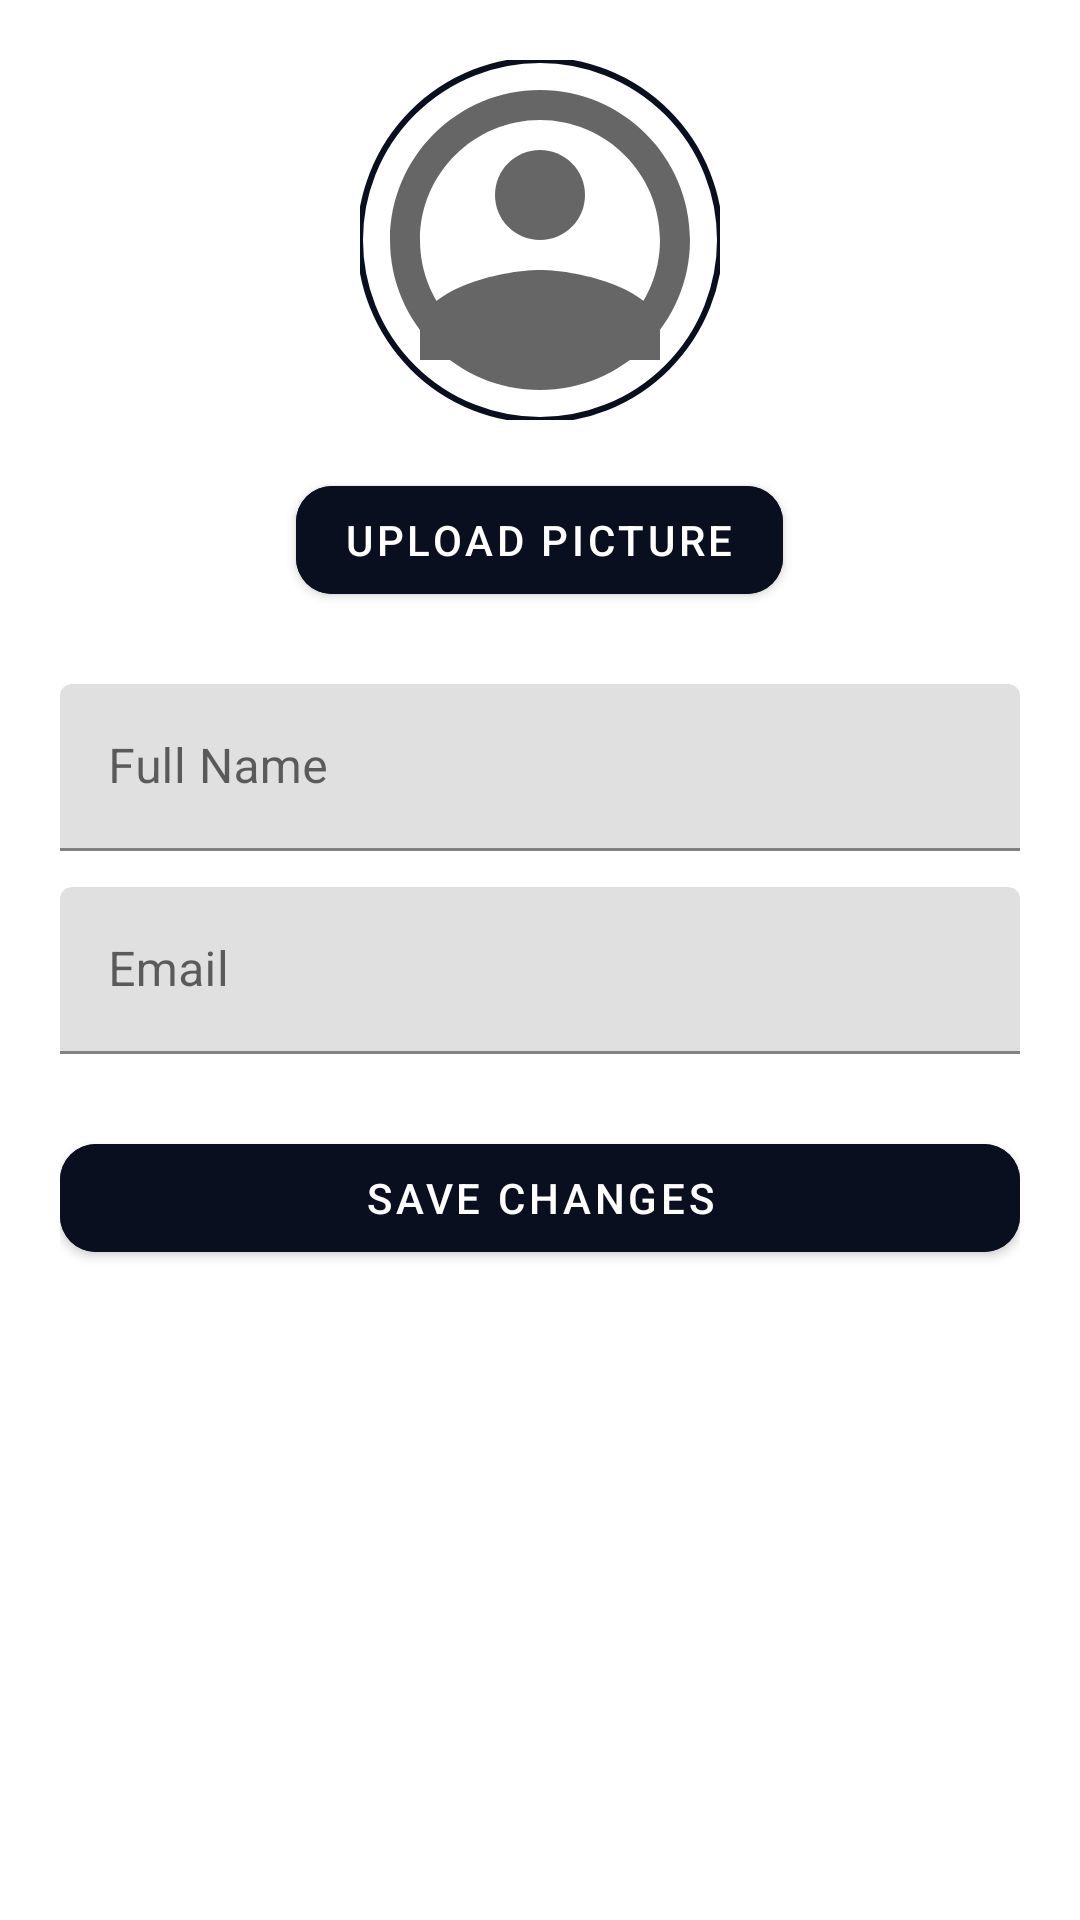

Where to tap for icons on this 1080×1920 app screen, as (x=x, y=y):
Profile Picture: (x=540, y=240)
